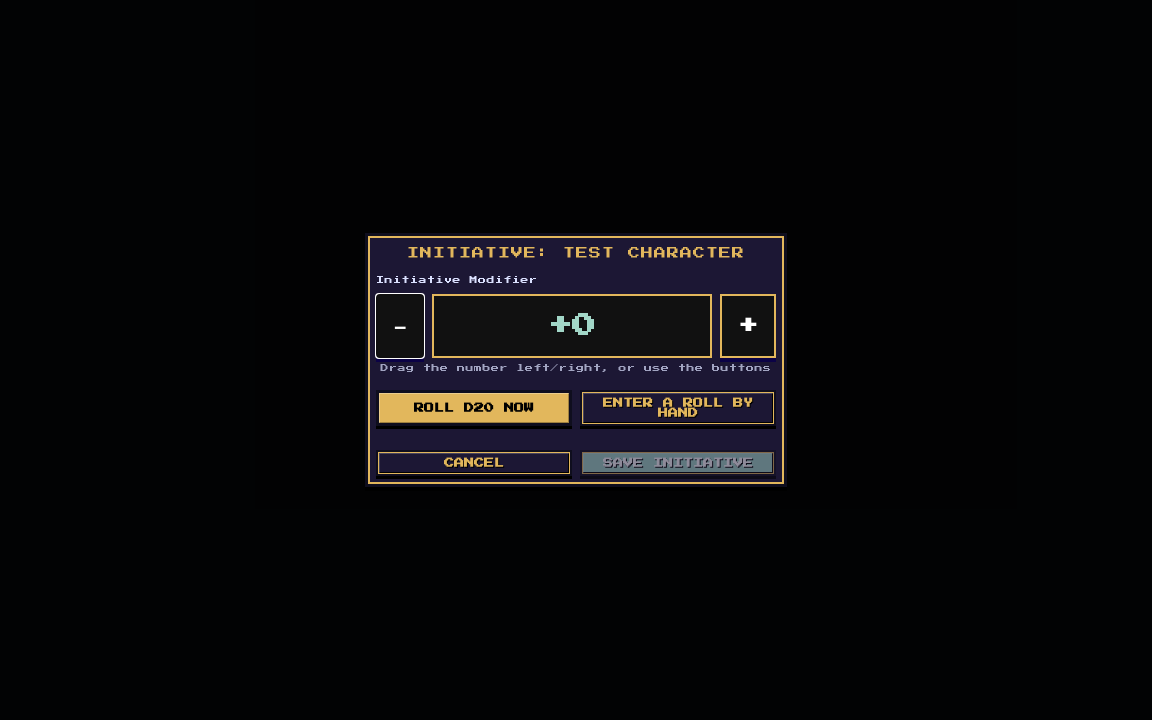
InitiativeModal - Modifier Drag Interaction › moving right increases modifier (10px = +1)
Press the mouse on the text "+0" at (572, 326), box [432,294,712,358]
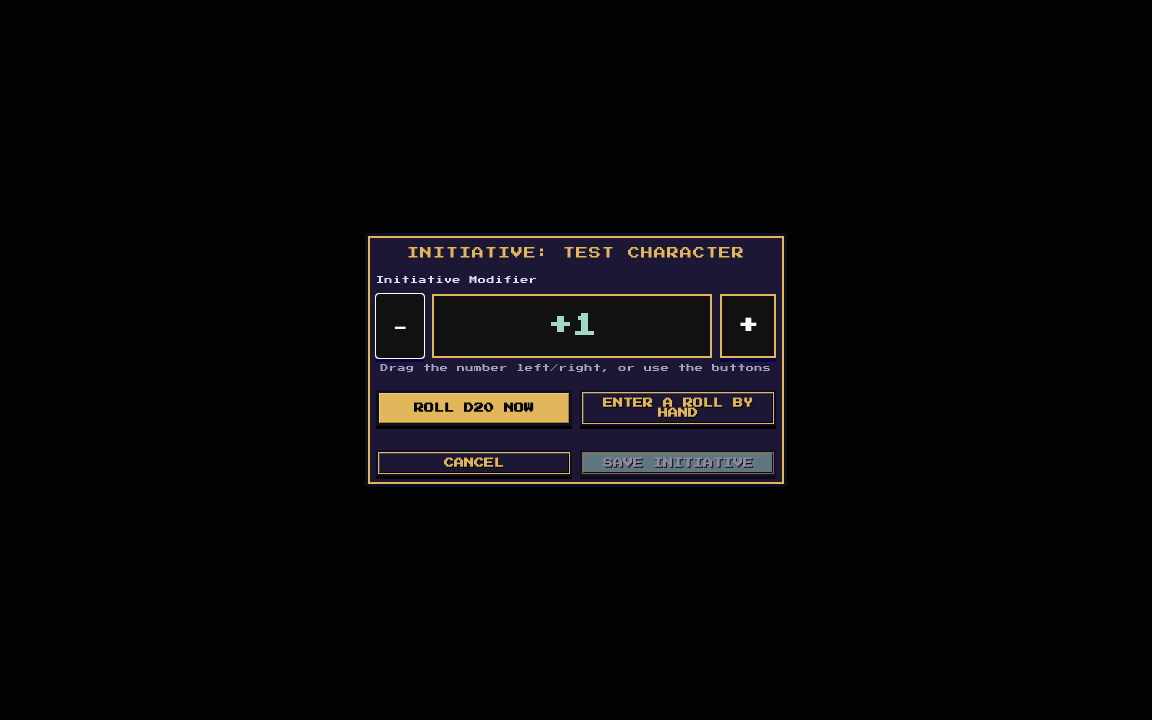
Check: the text "+1" is shown, box [432,294,712,358]
